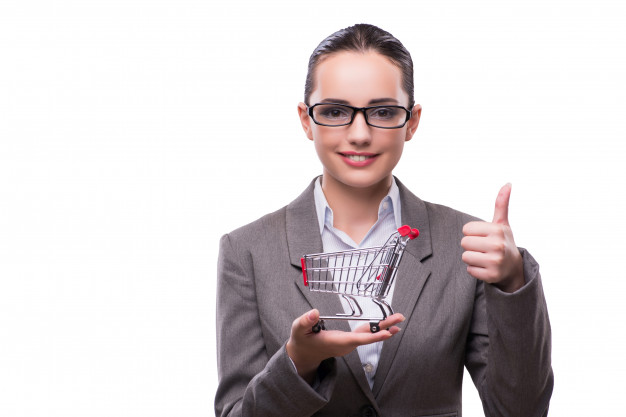thumbsup: (460, 182, 514, 284)
